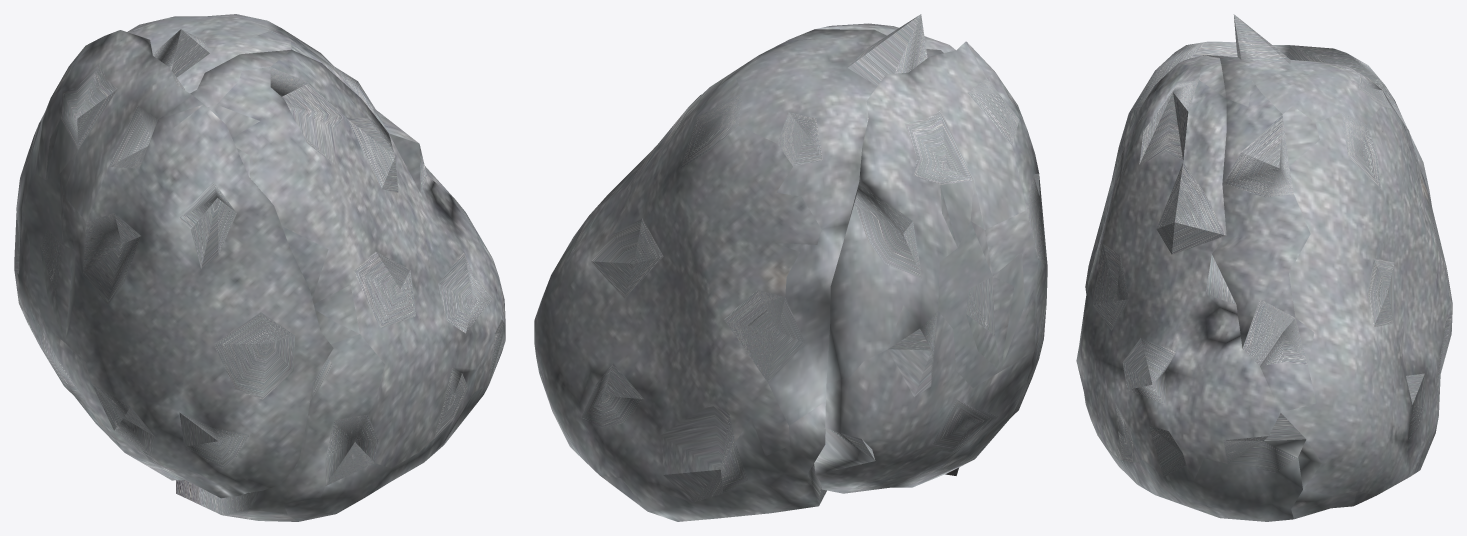
Rendered from LuminousOre_Depleted.glb.
3 renders of one model, left to right at view 1: azimuth 30°, elevation 25°; view 2: azimuth 150°, elevation 25°; view 3: azimuth 270°, elevation 25°, orthographic. The views are drawn at different scales.
Visible parts, largest first — view 1: Rock 1.001, Rock 3.001, Rock 2.001; view 2: Rock 2.001, Rock 1.001, Rock 3.001; view 3: Rock 2.001, Rock 3.001, Rock 1.001.
Part boxes in pixels (left/top/right/bottom): Rock 1.001: left=14, top=30, right=333, bottom=498; Rock 3.001: left=176, top=49, right=505, bottom=521; Rock 2.001: left=127, top=14, right=454, bottom=198; Rock 2.001: left=534, top=14, right=943, bottom=521; Rock 1.001: left=814, top=41, right=1047, bottom=493; Rock 3.001: left=815, top=23, right=959, bottom=475; Rock 2.001: left=1203, top=14, right=1452, bottom=519; Rock 3.001: left=1076, top=55, right=1306, bottom=521; Rock 1.001: left=1085, top=41, right=1431, bottom=293.
Bounding box in the file's own units: 1.05 × 1.13 × 0.9288.
Materials: 1 (1 with a texture image).
